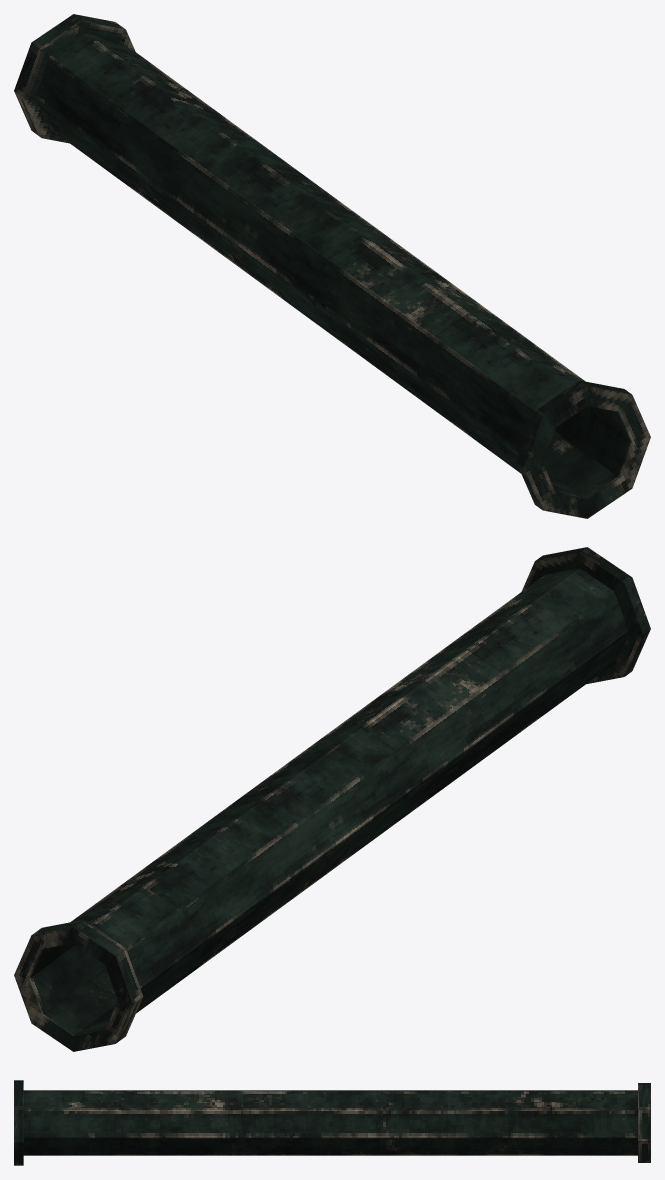
The model's file is Pipe.glb.
3 views of the same model, one above another, from view 1: azimuth 30°, elevation 25°; view 2: azimuth 150°, elevation 25°; view 3: azimuth 270°, elevation 25° (orthographic). The views are drawn at different scales.
Parts seen in each view (by area): view 1: Cylinder; view 2: Cylinder; view 3: Cylinder.
Part boxes in pixels (x1,y1,x2,y2): Cylinder: (14,14,650,518); Cylinder: (14,547,650,1051); Cylinder: (14,1080,650,1165).
Size of the model in its own units: 0.2435 by 0.2435 by 1.71.
Materials: 1 (1 with a texture image).
